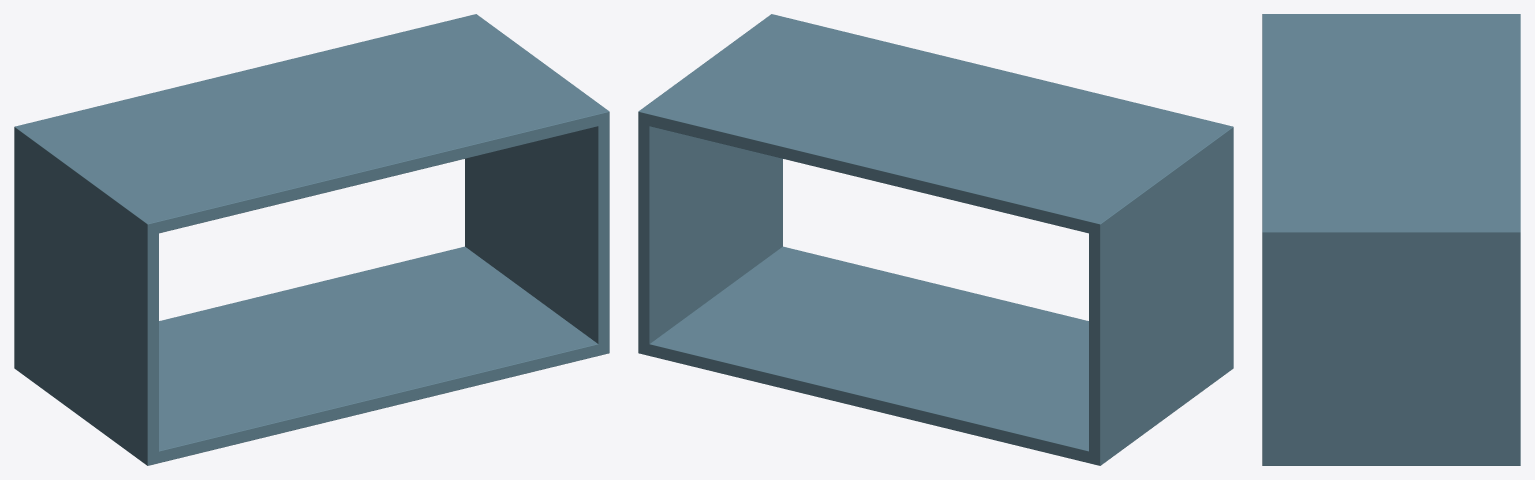
The model's file is MOD-2X1-A-O-AC.glb.
3 views of the same model, side by side, from view 1: azimuth 30°, elevation 25°; view 2: azimuth 150°, elevation 25°; view 3: azimuth 270°, elevation 25° (orthographic). The views are drawn at different scales.
Bounding box in the file's own units: 720 × 360 × 360.
